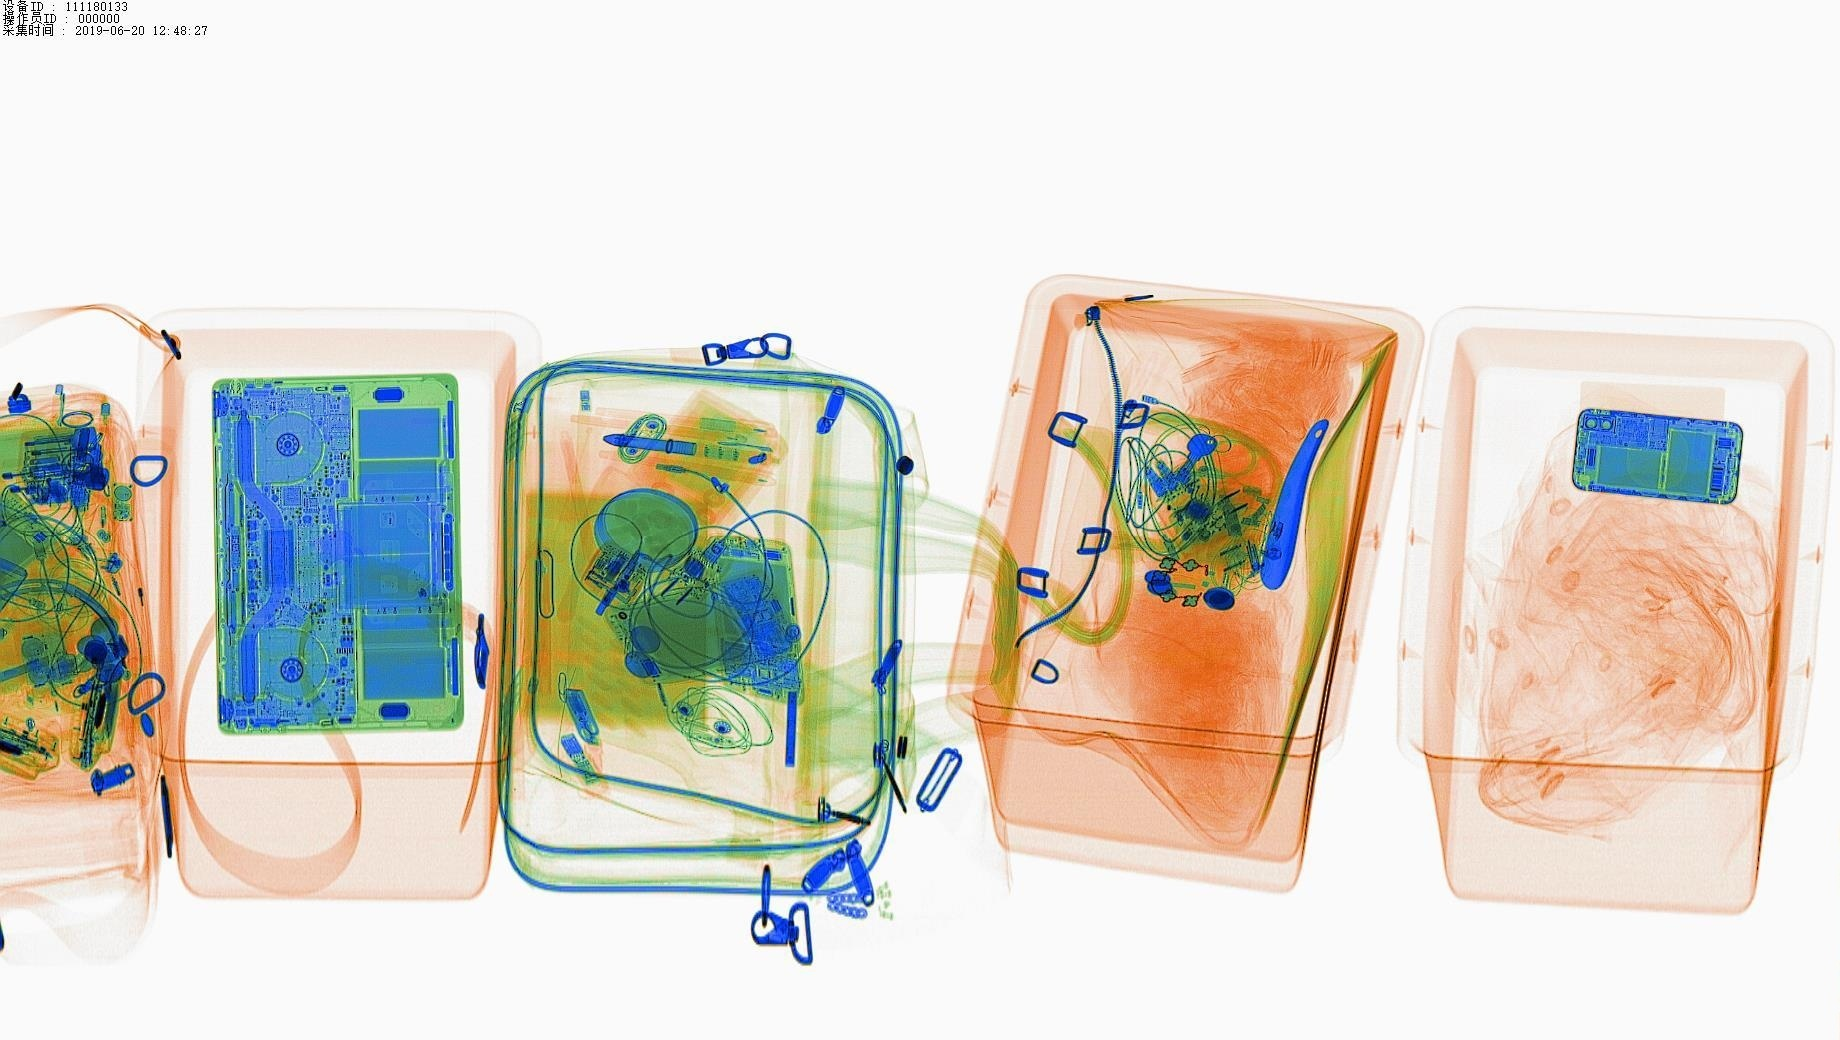NonmetallicFire: (47, 537, 142, 580)
